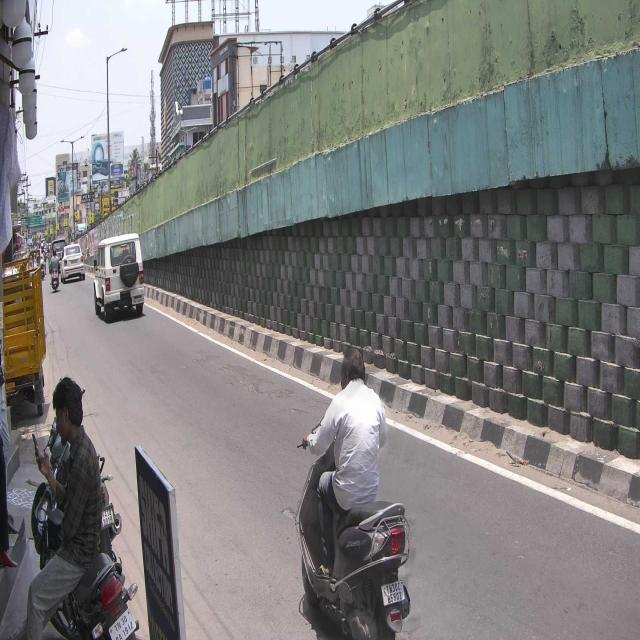single_rider: (296, 345, 414, 640)
